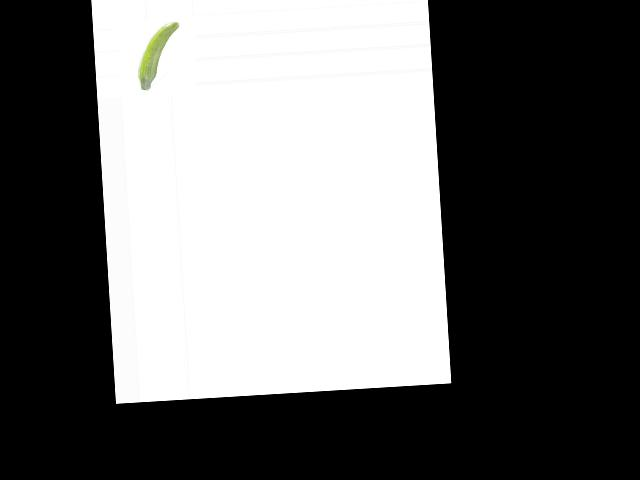cucumber: (135, 22, 183, 91)
